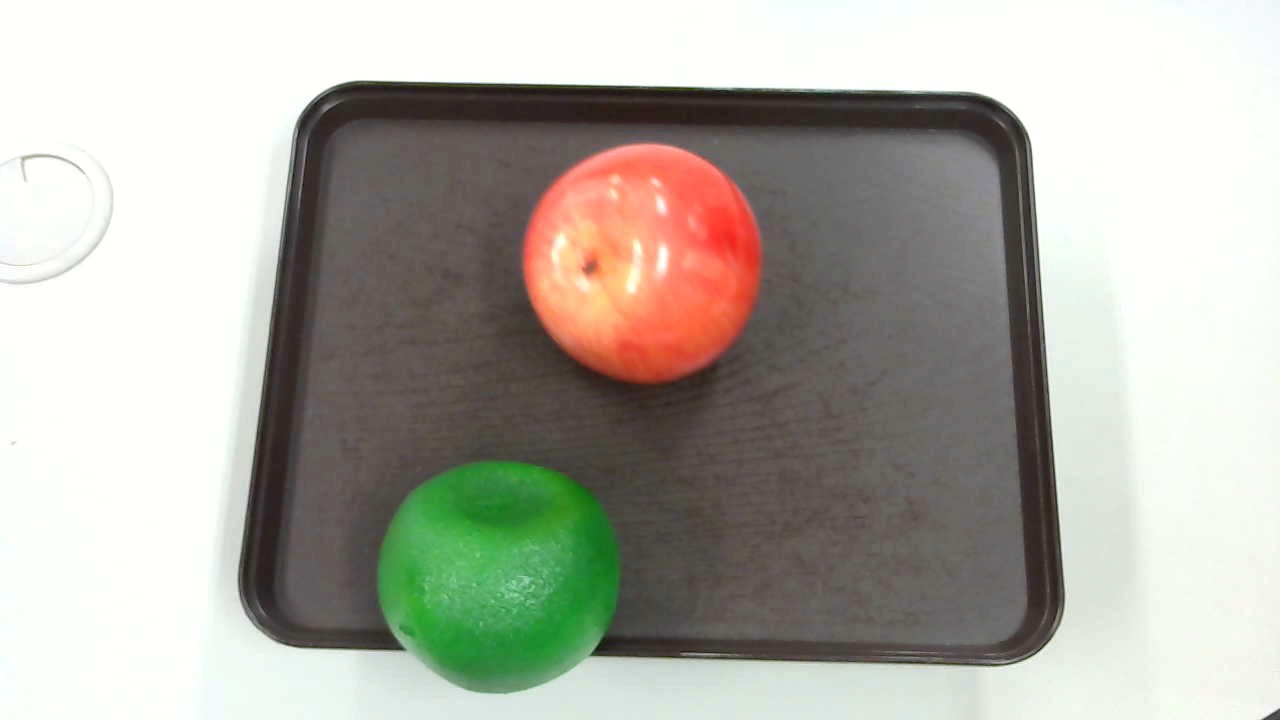green orange: (382, 455, 621, 693)
red apple: (524, 146, 768, 388)
